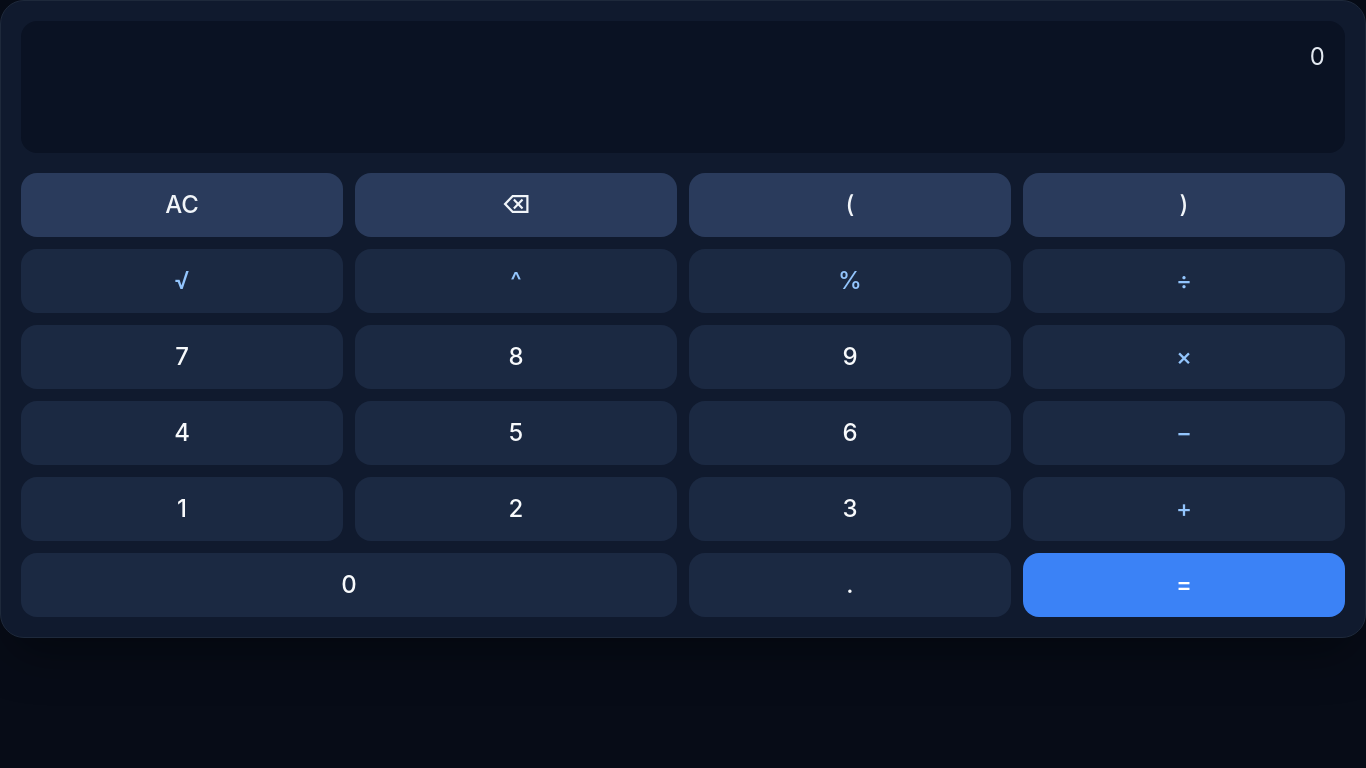
Test: Calculator › shows the result once the user presses equals
Click the button named "Two": x=516, y=509 355,477 -> 677,541
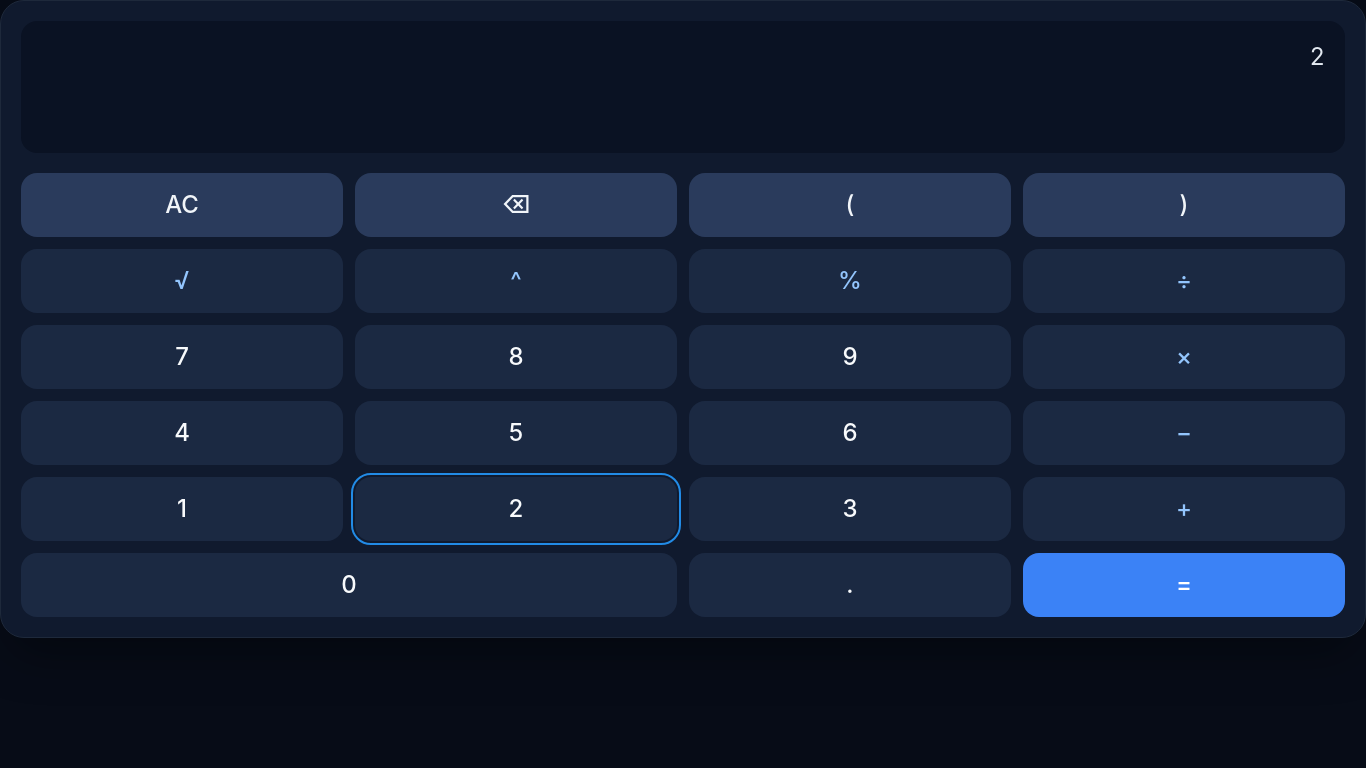
Click the button named "Add": x=1184, y=509 1023,477 -> 1345,541
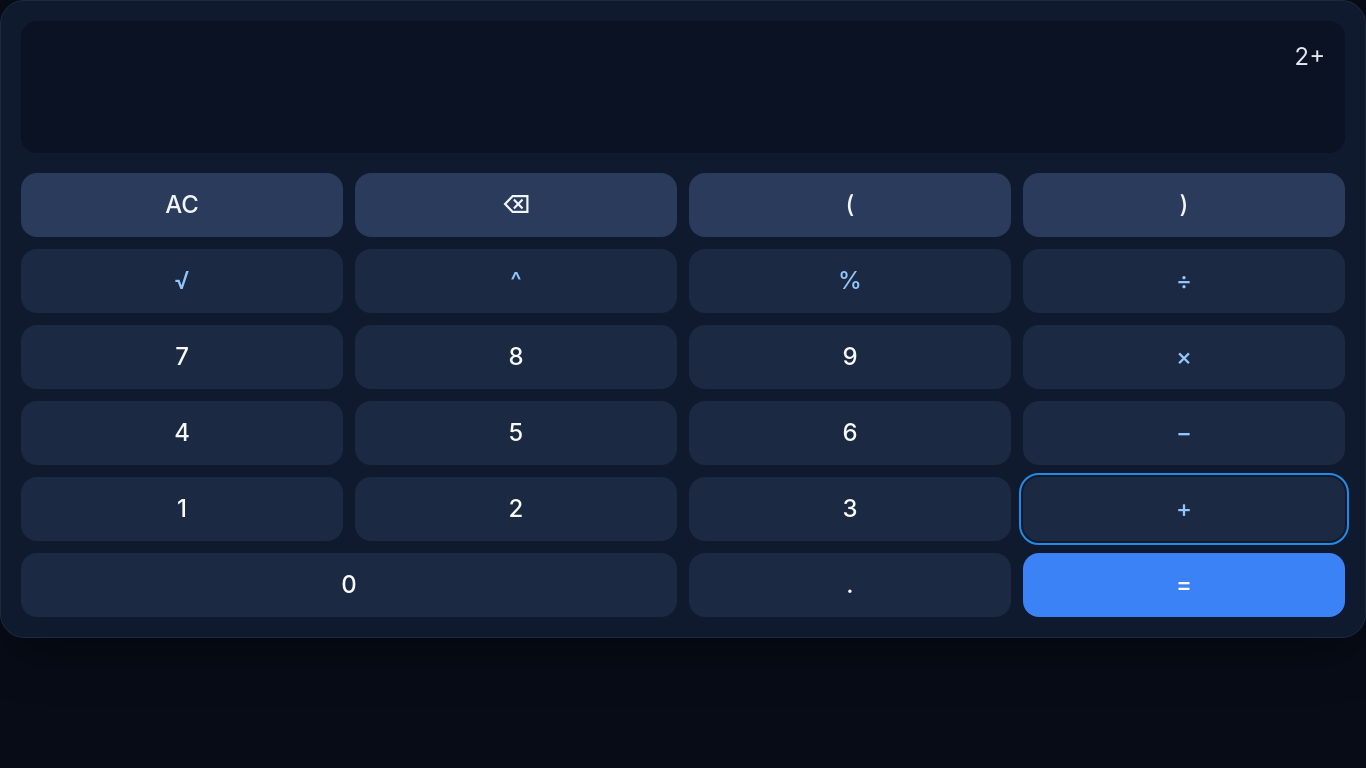
Click the button named "Three": x=850, y=509 689,477 -> 1011,541
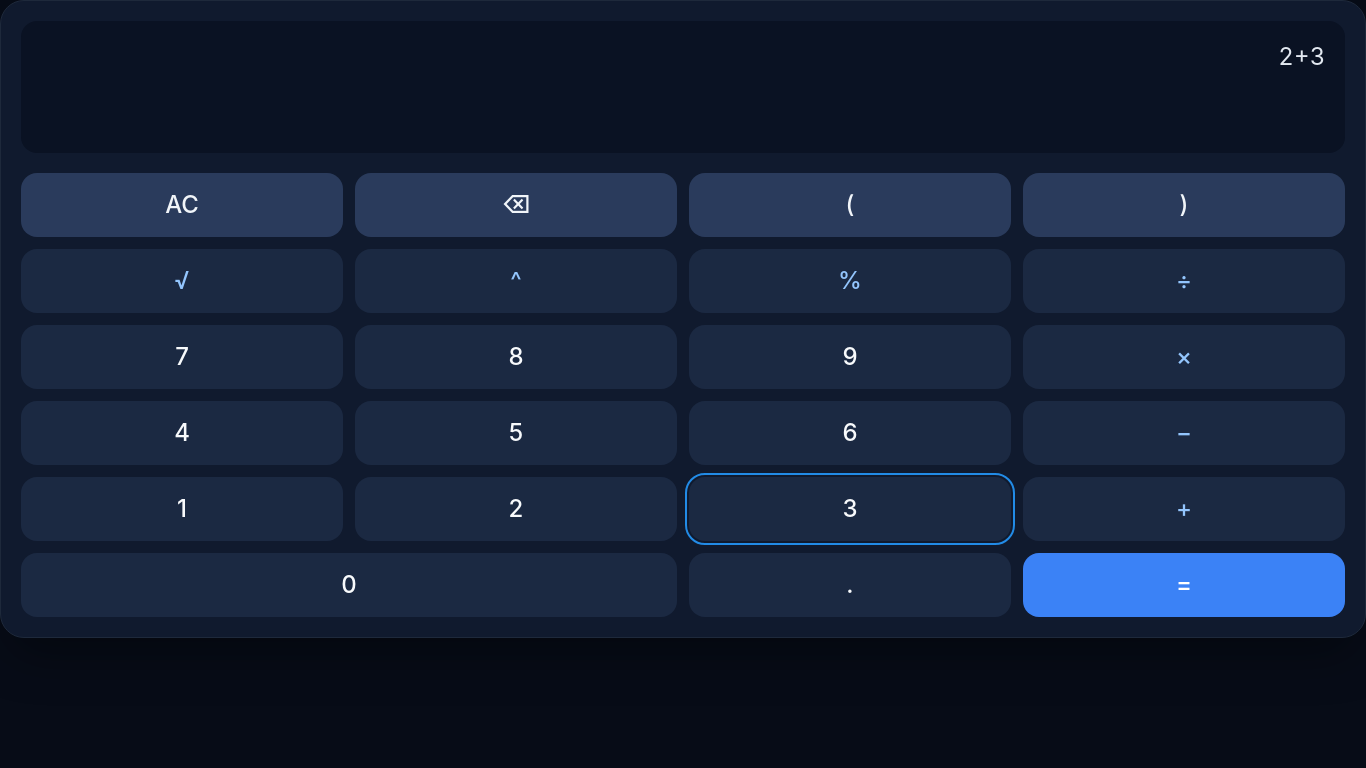
Click the button named "Calculate the result": x=1184, y=585 1023,553 -> 1345,617
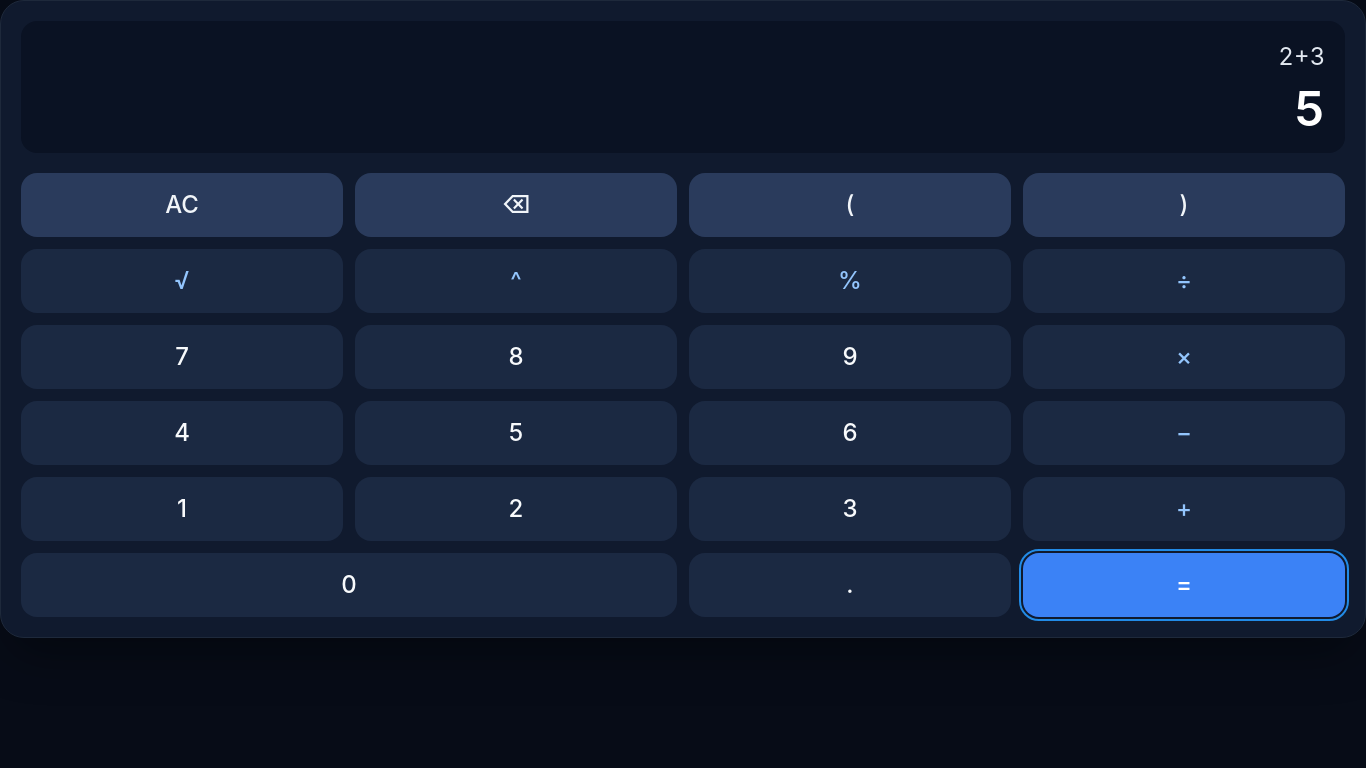
Expected: the text named "Result" reads "5", 1294,79 -> 1325,138
